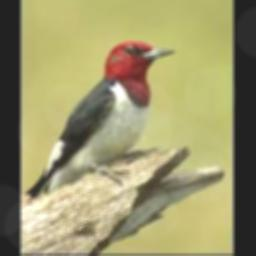Woodpecker: (25, 41, 176, 199)
